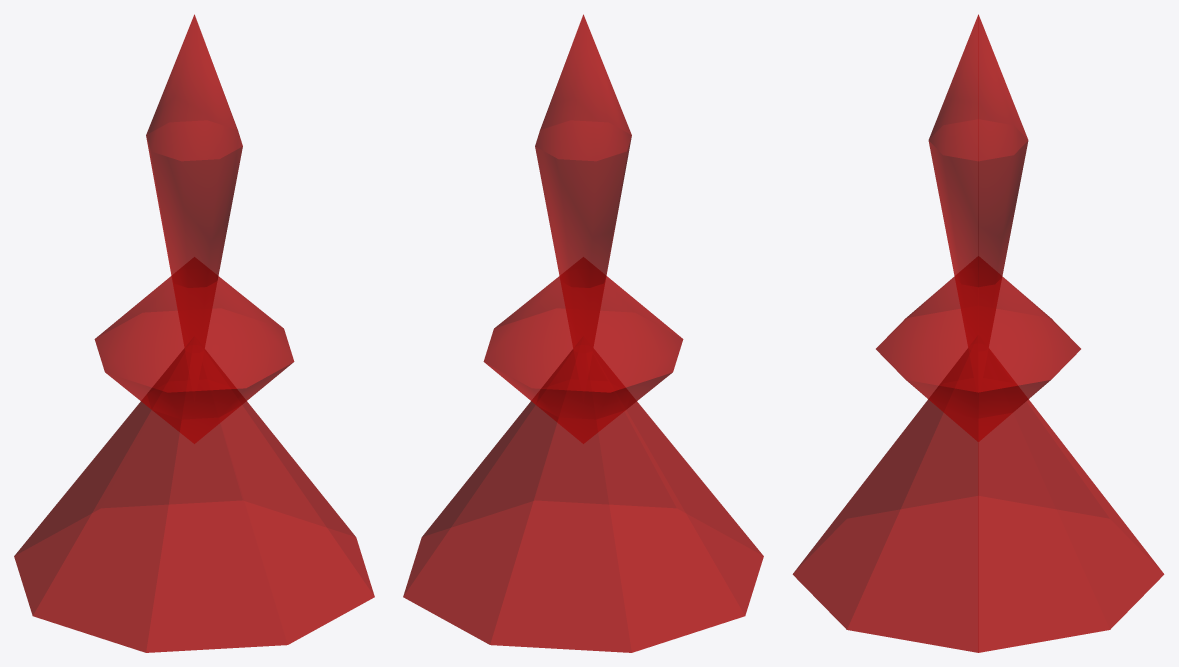
The model's file is SM_Prop_Swamp_RitualPyre_01_Collision.fbx.
3 renders of one model, left to right at view 1: azimuth 30°, elevation 25°; view 2: azimuth 150°, elevation 25°; view 3: azimuth 270°, elevation 25°, orthographic.
Parts seen in each view (by area): view 1: SM_Prop_Swamp_RitualPyre_01_Collision; view 2: SM_Prop_Swamp_RitualPyre_01_Collision; view 3: SM_Prop_Swamp_RitualPyre_01_Collision.
Boxes of the visible parts, x1=… form: SM_Prop_Swamp_RitualPyre_01_Collision: x1=14, y1=14, x2=374, y2=652; SM_Prop_Swamp_RitualPyre_01_Collision: x1=403, y1=14, x2=763, y2=652; SM_Prop_Swamp_RitualPyre_01_Collision: x1=792, y1=14, x2=1164, y2=652.
Size of the model in its own units: 365 by 607 by 365.
